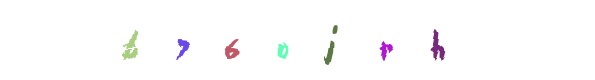6: (242, 0, 322, 80)
7: (205, 0, 285, 80)
B: (151, 0, 231, 80)
H: (397, 0, 477, 80)
J: (257, 0, 337, 80)
O: (243, 0, 323, 80)
R: (290, 0, 370, 80)
